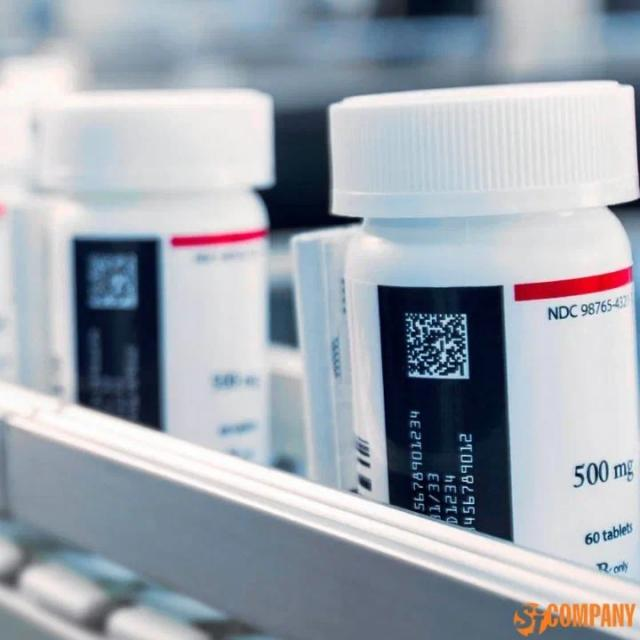datamatrix: (404, 311, 473, 383), (86, 253, 142, 313)
